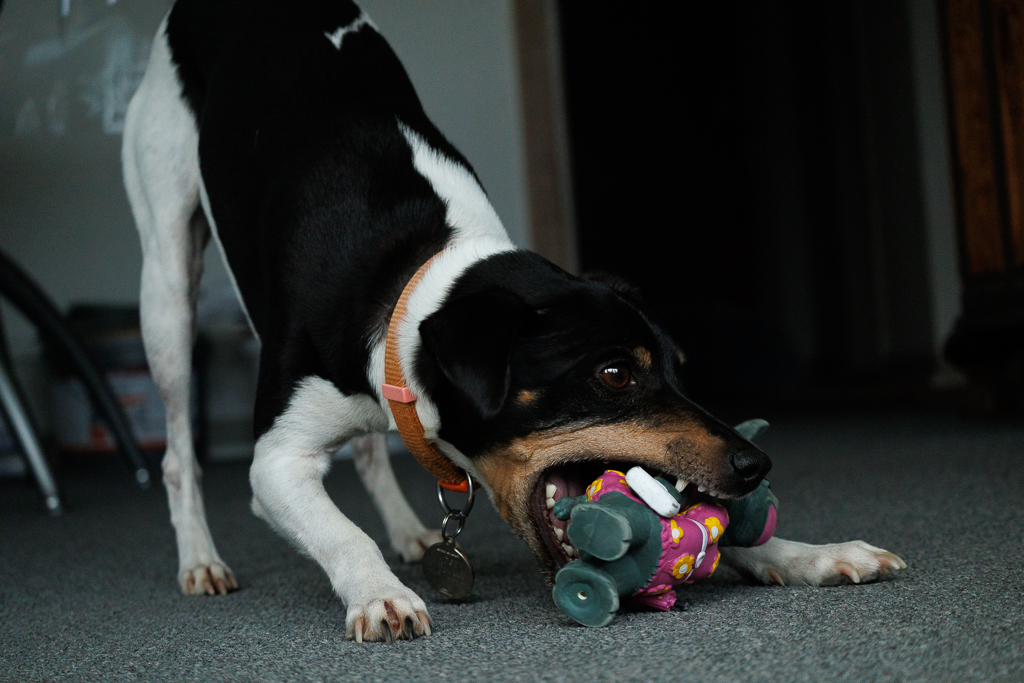Dog: (110, 0, 924, 651)
Humanoid: (496, 407, 796, 625)
